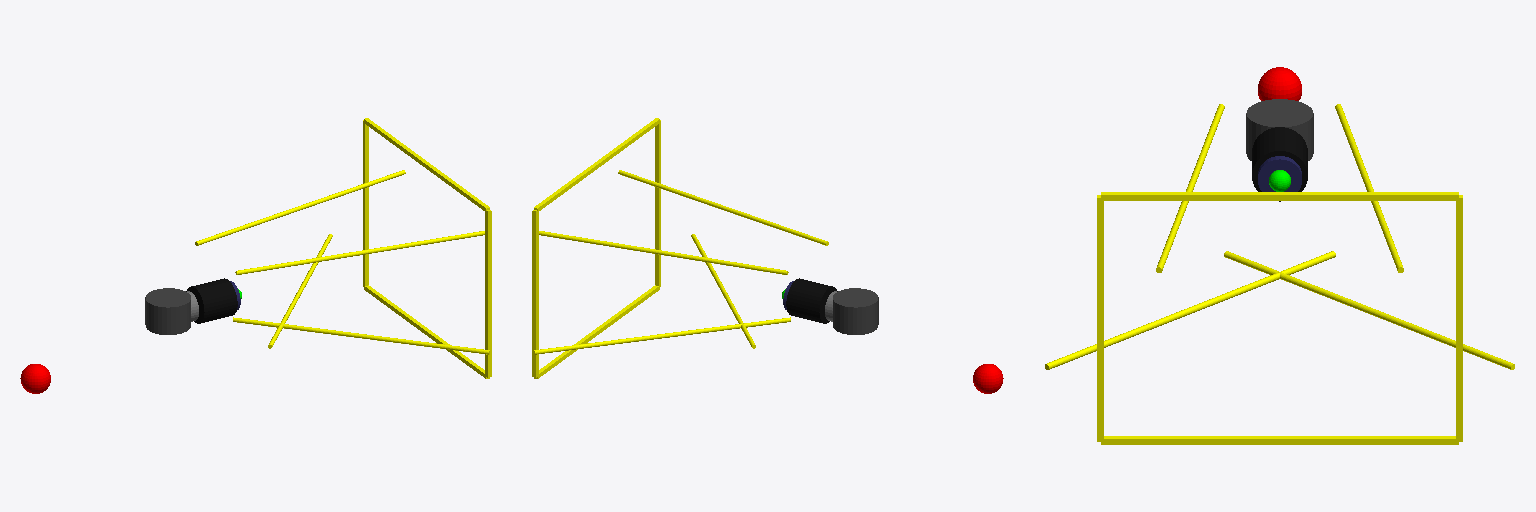
The robot description file, URDF, robot "brov":
<?xml version="1.0"?>
<robot name="brov">
  <!-- World link (fixed reference) -->
  <link name="world"/>

  <!-- X translation joint -->
  <joint name="x_joint" type="prismatic">
    <parent link="world"/>
    <child link="x_link"/>
    <origin xyz="0 0 0" rpy="0 0 0"/>
    <axis xyz="1 0 0"/>
    <limit lower="-100" upper="100" effort="1000" velocity="10.0"/>
  </joint>
  <link name="x_link">
    <inertial>
      <mass value="0.01"/>
      <origin xyz="0 0 0" rpy="0 0 0"/>
      <inertia ixx="0.0001" ixy="0" ixz="0" iyy="0.0001" iyz="0" izz="0.0001"/>
    </inertial>
  </link>

  <!-- Y translation joint -->
  <joint name="y_joint" type="prismatic">
    <parent link="x_link"/>
    <child link="y_link"/>
    <origin xyz="0 0 0" rpy="0 0 0"/>
    <axis xyz="0 1 0"/>
    <limit lower="-100" upper="100" effort="1000" velocity="10.0"/>
  </joint>
  <link name="y_link">
    <inertial>
      <mass value="0.01"/>
      <origin xyz="0 0 0" rpy="0 0 0"/>
      <inertia ixx="0.0001" ixy="0" ixz="0" iyy="0.0001" iyz="0" izz="0.0001"/>
    </inertial>
  </link>

  <!-- Z translation joint -->
  <joint name="z_joint" type="prismatic">
    <parent link="y_link"/>
    <child link="z_link"/>
    <origin xyz="0 0 0" rpy="0 0 0"/>
    <axis xyz="0 0 1"/>
    <limit lower="-100" upper="100" effort="1000" velocity="10.0"/>
  </joint>
  <link name="z_link">
    <inertial>
      <mass value="0.01"/>
      <origin xyz="0 0 0" rpy="0 0 0"/>
      <inertia ixx="0.0001" ixy="0" ixz="0" iyy="0.0001" iyz="0" izz="0.0001"/>
    </inertial>
  </link>

  <!-- Yaw rotation joint (around Z) - limited to ±180 degrees -->
  <joint name="yaw_joint" type="revolute">
    <parent link="z_link"/>
    <child link="yaw_link"/>
    <origin xyz="0 0 0" rpy="0 0 0"/>
    <axis xyz="0 0 1"/>
    <limit lower="-3.14159" upper="3.14159" effort="100" velocity="2.0"/>
  </joint>
  <link name="yaw_link">
    <inertial>
      <mass value="0.01"/>
      <origin xyz="0 0 0" rpy="0 0 0"/>
      <inertia ixx="0.0001" ixy="0" ixz="0" iyy="0.0001" iyz="0" izz="0.0001"/>
    </inertial>
  </link>

  <!-- Pitch rotation joint (around Y) - limited to ±90 degrees -->
  <joint name="pitch_joint" type="revolute">
    <parent link="yaw_link"/>
    <child link="pitch_link"/>
    <origin xyz="0 0 0" rpy="0 0 0"/>
    <axis xyz="0 1 0"/>
    <limit lower="-1.5708" upper="1.5708" effort="100" velocity="2.0"/>
  </joint>
  <link name="pitch_link">
    <inertial>
      <mass value="0.01"/>
      <origin xyz="0 0 0" rpy="0 0 0"/>
      <inertia ixx="0.0001" ixy="0" ixz="0" iyy="0.0001" iyz="0" izz="0.0001"/>
    </inertial>
  </link>

  <!-- Roll rotation joint (around X) - limited to ±180 degrees -->
  <joint name="roll_joint" type="revolute">
    <parent link="pitch_link"/>
    <child link="roll_link"/>
    <origin xyz="0 0 0" rpy="0 0 0"/>
    <axis xyz="1 0 0"/>
    <limit lower="-3.14159" upper="3.14159" effort="100" velocity="2.0"/>
  </joint>
  <link name="roll_link">
    <inertial>
      <mass value="0.01"/>
      <origin xyz="0 0 0" rpy="0 0 0"/>
      <inertia ixx="0.0001" ixy="0" ixz="0" iyy="0.0001" iyz="0" izz="0.0001"/>
    </inertial>
  </link>

  <!-- Fixed joint to the AUV body -->
  <joint name="body_joint" type="fixed">
    <parent link="roll_link"/>
    <child link="base_link"/>
    <origin xyz="0 0 0" rpy="0 0 0"/>
  </joint>

  <!-- AUV Body (the visible part) -->
  <link name="base_link">
    <visual>
      <!-- Offset to align mesh with collision spheres (mesh origin is above center) -->
      <origin xyz="0 0 -0.15" rpy="0 0 0"/>
      <geometry>
        <mesh filename="BROV_high.usd" scale="1.0 1.0 1.0"/>
      </geometry>
    </visual>
    <collision>
      <origin xyz="0 0 0" rpy="0 0 0"/>
      <geometry>
        <box size="0.6 0.4 0.25"/>
      </geometry>
    </collision>
    <inertial>
      <mass value="10.0"/>
      <origin xyz="0 0 0" rpy="0 0 0"/>
      <inertia ixx="0.5" ixy="0" ixz="0" iyy="0.5" iyz="0" izz="0.5"/>
    </inertial>
  </link>

  <!-- End effector link (for motion planning target) - at center of AUV -->
  <joint name="ee_joint" type="fixed">
    <parent link="base_link"/>
    <child link="ee_link"/>
    <origin xyz="0 0 0" rpy="0 0 0"/>
  </joint>
  <link name="ee_link">
    <visual>
      <origin xyz="0 0 0" rpy="0 0 0"/>
      <geometry>
        <sphere radius="0.02"/>
      </geometry>
      <material name="red">
        <color rgba="1.0 0.0 0.0 0.5"/>
      </material>
    </visual>
  </link>

  <!-- ============================================== -->
  <!-- Camera Pan-Tilt Mount System                   -->
  <!-- ============================================== -->

  <!-- Camera mount base - fixed to front of AUV body -->
  <joint name="camera_mount_joint" type="fixed">
    <parent link="base_link"/>
    <child link="camera_mount_link"/>
    <!-- Position at front of AUV (positive X is forward) -->
    <origin xyz="0.20 0 0.05" rpy="0 0 0"/>
  </joint>
  <link name="camera_mount_link">
    <visual>
      <origin xyz="0 0 0" rpy="0 0 0"/>
      <geometry>
        <cylinder radius="0.03" length="0.04"/>
      </geometry>
      <material name="dark_gray">
        <color rgba="0.3 0.3 0.3 1.0"/>
      </material>
    </visual>
    <inertial>
      <mass value="0.1"/>
      <origin xyz="0 0 0" rpy="0 0 0"/>
      <inertia ixx="0.0001" ixy="0" ixz="0" iyy="0.0001" iyz="0" izz="0.0001"/>
    </inertial>
  </link>

  <!-- Camera yaw joint (pan left/right) - ±70 degrees (~1.22 rad) -->
  <joint name="camera_yaw_joint" type="revolute">
    <parent link="camera_mount_link"/>
    <child link="camera_yaw_link"/>
    <origin xyz="0.02 0 0" rpy="0 0 0"/>
    <axis xyz="0 0 1"/>
    <limit lower="-1.22173" upper="1.22173" effort="10" velocity="1.0"/>
  </joint>
  <link name="camera_yaw_link">
    <visual>
      <origin xyz="0 0 0" rpy="0 1.5708 0"/>
      <geometry>
        <cylinder radius="0.02" length="0.03"/>
      </geometry>
      <material name="gray">
        <color rgba="0.5 0.5 0.5 1.0"/>
      </material>
    </visual>
    <inertial>
      <mass value="0.05"/>
      <origin xyz="0 0 0" rpy="0 0 0"/>
      <inertia ixx="0.00001" ixy="0" ixz="0" iyy="0.00001" iyz="0" izz="0.00001"/>
    </inertial>
  </link>

  <!-- Camera pitch joint (tilt up/down) - ±70 degrees (~1.22 rad) -->
  <joint name="camera_pitch_joint" type="revolute">
    <parent link="camera_yaw_link"/>
    <child link="camera_link"/>
    <origin xyz="0.02 0 0" rpy="0 0 0"/>
    <axis xyz="0 1 0"/>
    <limit lower="-1.22173" upper="1.22173" effort="10" velocity="1.0"/>
  </joint>
  
  <!-- Camera link - the actual camera (NEW END EFFECTOR) -->
  <link name="camera_link">
    <visual>
      <!-- Camera body -->
      <origin xyz="0.025 0 0" rpy="0 1.5708 0"/>
      <geometry>
        <cylinder radius="0.025" length="0.05"/>
      </geometry>
      <material name="black">
        <color rgba="0.1 0.1 0.1 1.0"/>
      </material>
    </visual>
    <visual>
      <!-- Camera lens -->
      <origin xyz="0.05 0 0" rpy="0 1.5708 0"/>
      <geometry>
        <cylinder radius="0.02" length="0.015"/>
      </geometry>
      <material name="lens_blue">
        <color rgba="0.2 0.2 0.4 1.0"/>
      </material>
    </visual>
    <!-- Camera frustum visualization (4 edges of pyramid) -->
    <!-- Lens at x=0.06, far plane at x=0.35 with corners at y=±0.16, z=±0.12 -->
    <!-- Edge length ~0.35m, cylinders centered at midpoint between lens and corner -->
    <visual>
      <!-- Top-left edge: from (0.06,0,0) to (0.35, 0.16, 0.12) -->
      <origin xyz="0.205 0.08 0.06" rpy="0.33 1.57 0.49"/>
      <geometry>
        <cylinder radius="0.003" length="0.35"/>
      </geometry>
      <material name="frustum_yellow">
        <color rgba="1.0 1.0 0.0 0.7"/>
      </material>
    </visual>
    <visual>
      <!-- Top-right edge: from (0.06,0,0) to (0.35, -0.16, 0.12) -->
      <origin xyz="0.205 -0.08 0.06" rpy="-0.33 1.57 -0.49"/>
      <geometry>
        <cylinder radius="0.003" length="0.35"/>
      </geometry>
      <material name="frustum_yellow">
        <color rgba="1.0 1.0 0.0 0.7"/>
      </material>
    </visual>
    <visual>
      <!-- Bottom-left edge: from (0.06,0,0) to (0.35, 0.16, -0.12) -->
      <origin xyz="0.205 0.08 -0.06" rpy="-0.33 1.57 0.49"/>
      <geometry>
        <cylinder radius="0.003" length="0.35"/>
      </geometry>
      <material name="frustum_yellow">
        <color rgba="1.0 1.0 0.0 0.7"/>
      </material>
    </visual>
    <visual>
      <!-- Bottom-right edge: from (0.06,0,0) to (0.35, -0.16, -0.12) -->
      <origin xyz="0.205 -0.08 -0.06" rpy="0.33 1.57 -0.49"/>
      <geometry>
        <cylinder radius="0.003" length="0.35"/>
      </geometry>
      <material name="frustum_yellow">
        <color rgba="1.0 1.0 0.0 0.7"/>
      </material>
    </visual>
    <!-- Frustum far plane (rectangle outline) -->
    <visual>
      <!-- Top edge -->
      <origin xyz="0.35 0 0.12" rpy="0 0 0"/>
      <geometry>
        <box size="0.006 0.32 0.006"/>
      </geometry>
      <material name="frustum_yellow">
        <color rgba="1.0 1.0 0.0 0.7"/>
      </material>
    </visual>
    <visual>
      <!-- Bottom edge -->
      <origin xyz="0.35 0 -0.12" rpy="0 0 0"/>
      <geometry>
        <box size="0.006 0.32 0.006"/>
      </geometry>
      <material name="frustum_yellow">
        <color rgba="1.0 1.0 0.0 0.7"/>
      </material>
    </visual>
    <visual>
      <!-- Left edge -->
      <origin xyz="0.35 0.16 0" rpy="0 0 0"/>
      <geometry>
        <box size="0.006 0.006 0.24"/>
      </geometry>
      <material name="frustum_yellow">
        <color rgba="1.0 1.0 0.0 0.7"/>
      </material>
    </visual>
    <visual>
      <!-- Right edge -->
      <origin xyz="0.35 -0.16 0" rpy="0 0 0"/>
      <geometry>
        <box size="0.006 0.006 0.24"/>
      </geometry>
      <material name="frustum_yellow">
        <color rgba="1.0 1.0 0.0 0.7"/>
      </material>
    </visual>
    <inertial>
      <mass value="0.2"/>
      <origin xyz="0.025 0 0" rpy="0 0 0"/>
      <inertia ixx="0.0001" ixy="0" ixz="0" iyy="0.0001" iyz="0" izz="0.0001"/>
    </inertial>
  </link>

  <!-- Camera optical frame - for motion planning target (looking along +X) -->
  <joint name="camera_optical_joint" type="fixed">
    <parent link="camera_link"/>
    <child link="camera_optical_frame"/>
    <!-- At the front of the lens, looking forward (+X) -->
    <origin xyz="0.06 0 0" rpy="0 0 0"/>
  </joint>
  <link name="camera_optical_frame">
    <visual>
      <origin xyz="0 0 0" rpy="0 0 0"/>
      <geometry>
        <sphere radius="0.01"/>
      </geometry>
      <material name="green">
        <color rgba="0.0 1.0 0.0 1.0"/>
      </material>
    </visual>
  </link>
</robot>

--- Facts derived from the render (not from the file) ---
Views: 3 orthographic renders of the robot side by side, from view 1: azimuth 30°, elevation 25°; view 2: azimuth 150°, elevation 25°; view 3: azimuth 270°, elevation 25°.
Robot: brov — 13 links, 12 joints (5 revolute, 3 prismatic, 4 fixed); root link world; default pose: all joints at 0.
Links seen in each view (by area): view 1: camera_link, camera_mount_link, ee_link; view 2: camera_link, camera_mount_link, ee_link; view 3: camera_link, camera_mount_link, ee_link.
Link boxes in pixels (x1,y1,x2,y2): camera_link: (186,118,491,378); camera_mount_link: (145,288,190,334); ee_link: (20,364,50,393); camera_link: (532,118,837,378); camera_mount_link: (833,288,878,334); ee_link: (973,364,1003,393); camera_link: (1045,104,1514,444); camera_mount_link: (1246,99,1313,160); ee_link: (1258,67,1301,100).
Bounding box of the posed robot: 0.6382 × 0.42 × 0.246 m (x, y, z).
0 mesh visuals loaded from 1 distinct referenced files (none loaded); not drawn: 1 (reference not matched to a file when rendering).
